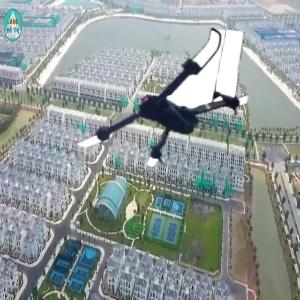drone: (76, 23, 249, 196)
